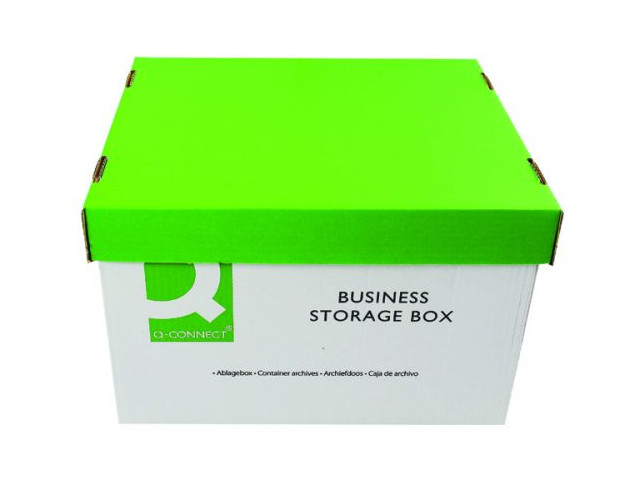cardboard: (83, 58, 561, 422)
